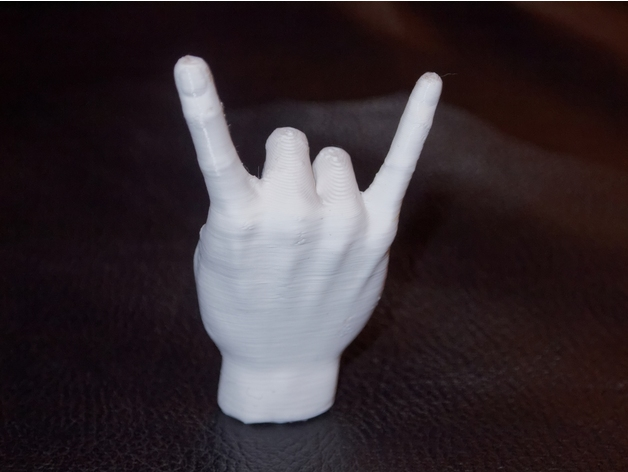finger: (366, 52, 470, 219), (171, 49, 257, 195), (260, 125, 314, 200), (314, 142, 364, 203)
